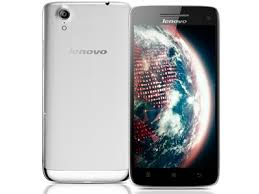lenovo: (126, 2, 222, 188), (37, 1, 133, 186)
